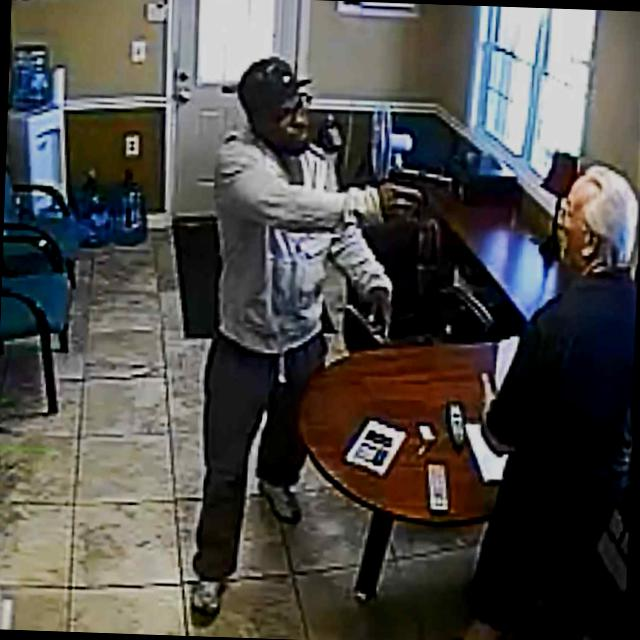handgun: (387, 164, 453, 222)
